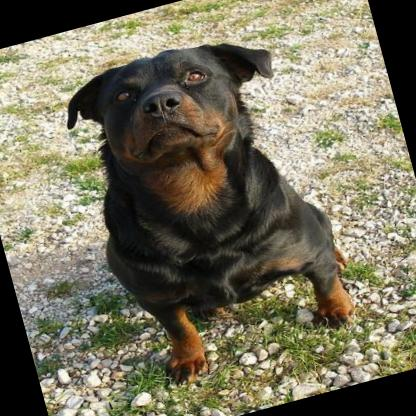Rottweiler: (52, 19, 368, 397)
